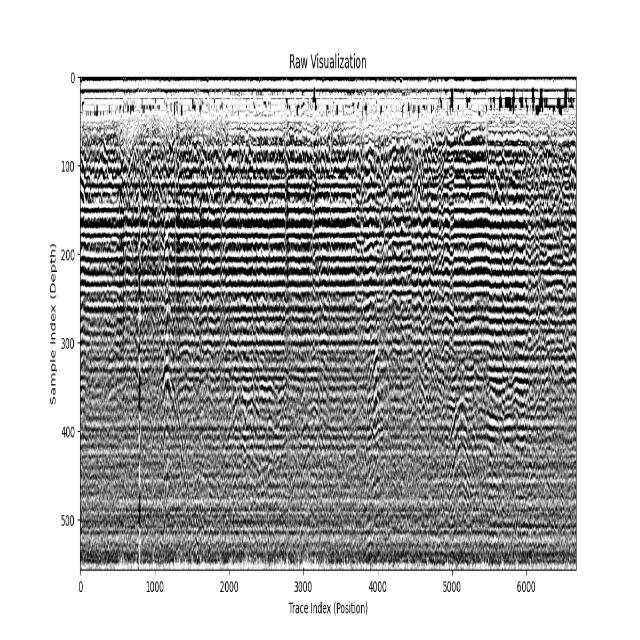anomaly: (359, 166, 389, 517), (148, 368, 191, 491), (218, 383, 269, 474), (444, 394, 478, 505), (164, 198, 170, 510), (136, 182, 140, 566)
